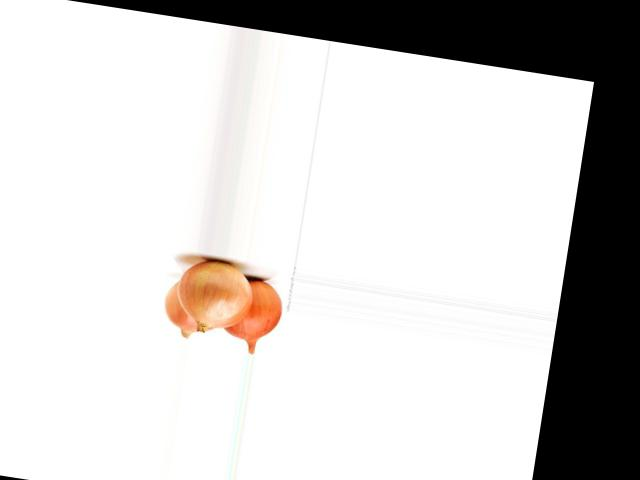onion: (219, 270, 286, 352)
